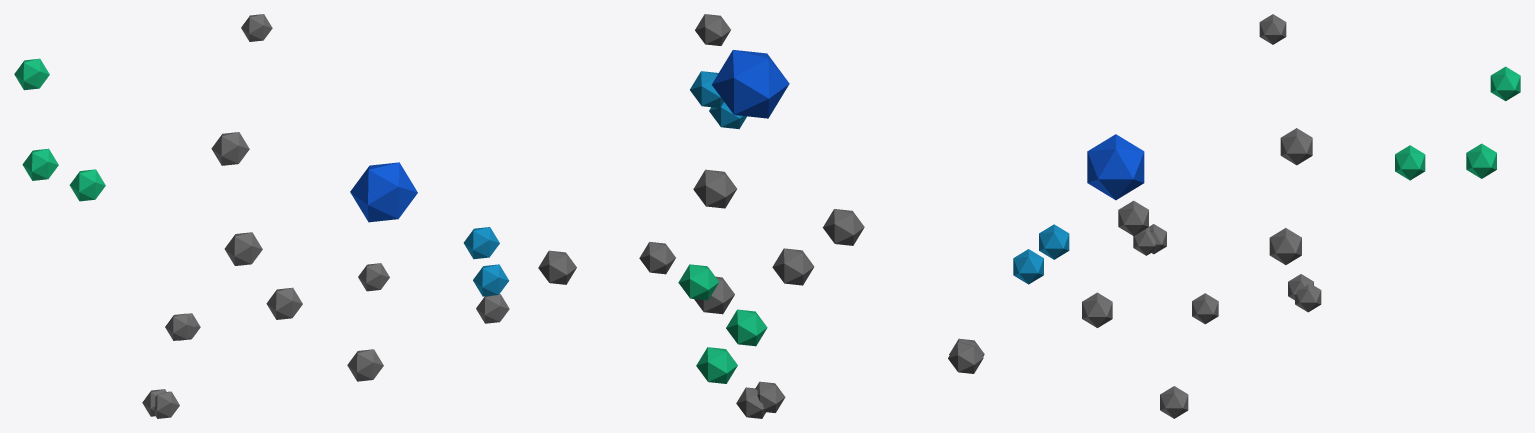
3 renders of one model, left to right at view 1: azimuth 30°, elevation 25°; view 2: azimuth 150°, elevation 25°; view 3: azimuth 270°, elevation 25°, orthographic. The views are drawn at different scales.
Visible parts, largest first — view 1: 00_00_07; view 2: 00_00_07; view 3: 00_00_07.
Boxes of the visible parts, <box> form: 00_00_07: <box>14,14,509,418</box>; 00_00_07: <box>538,14,984,418</box>; 00_00_07: <box>1013,14,1520,418</box>.
Size of the model in its own units: 0.4819 by 0.403 by 0.5839.
